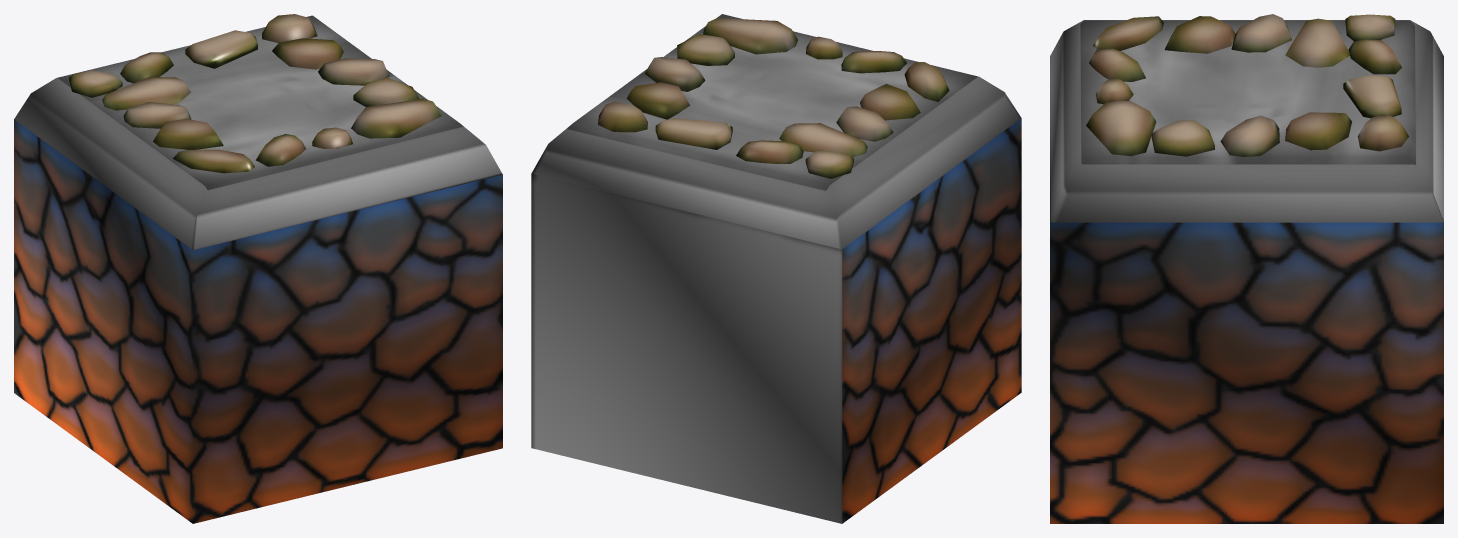
The model's file is Platform.fbx.
3 renders of one model, left to right at view 1: azimuth 30°, elevation 25°; view 2: azimuth 150°, elevation 25°; view 3: azimuth 270°, elevation 25°, orthographic. The views are drawn at different scales.
Visible parts, largest first — view 1: Platform; view 2: Platform; view 3: Platform.
Part boxes in pixels (left/top/right/bottom): Platform: left=14, top=14, right=502, bottom=523; Platform: left=531, top=14, right=1021, bottom=523; Platform: left=1050, top=14, right=1443, bottom=523.
Size of the model in its own units: 2.28 by 2.35 by 2.28.
Materials: 1 (1 with a texture image).
